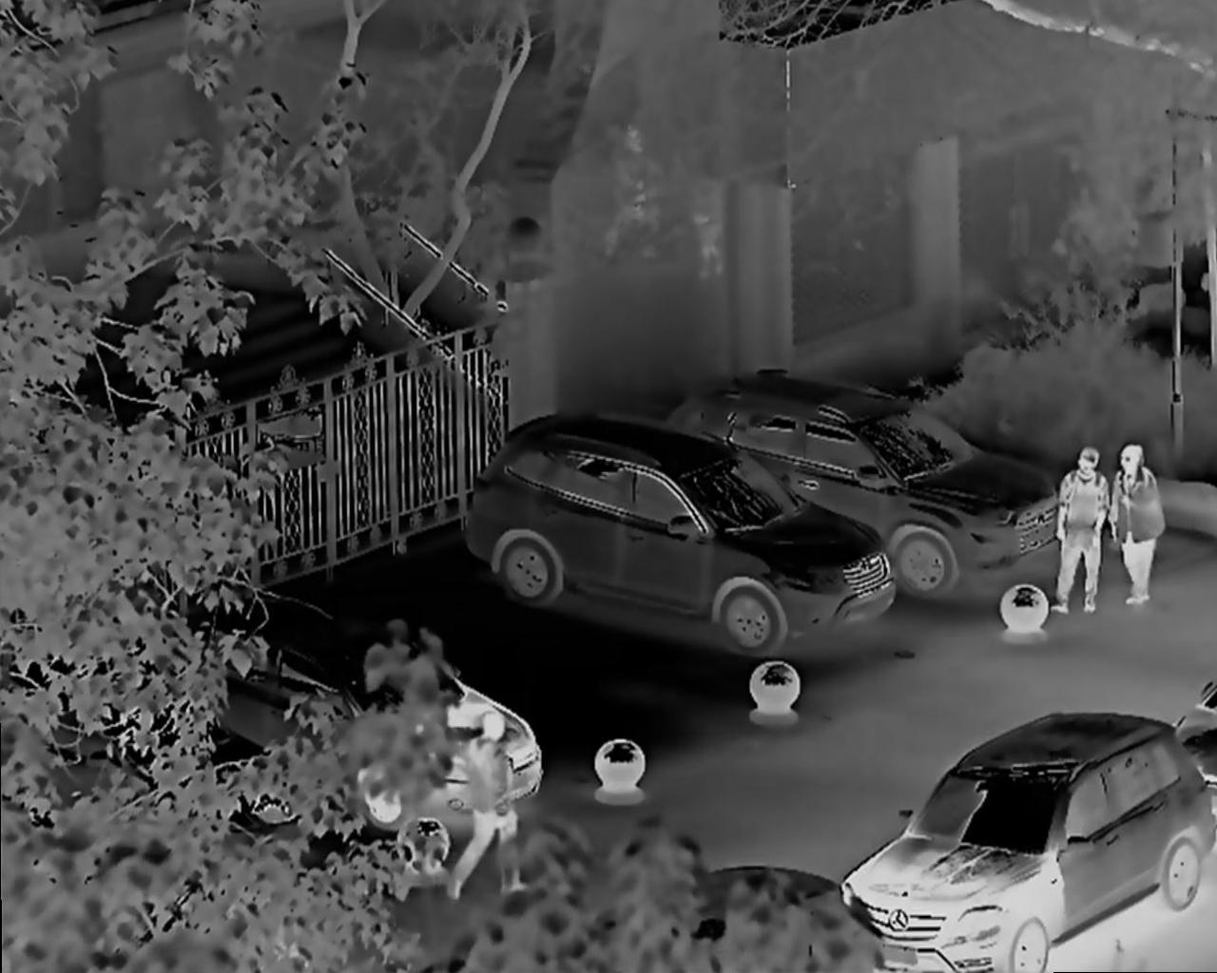person: (457, 708, 548, 903), (1097, 437, 1174, 618), (1049, 445, 1095, 627)
